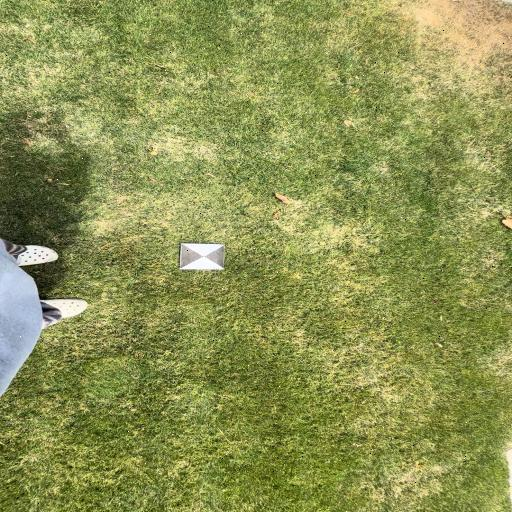target: (181, 244, 224, 270)
